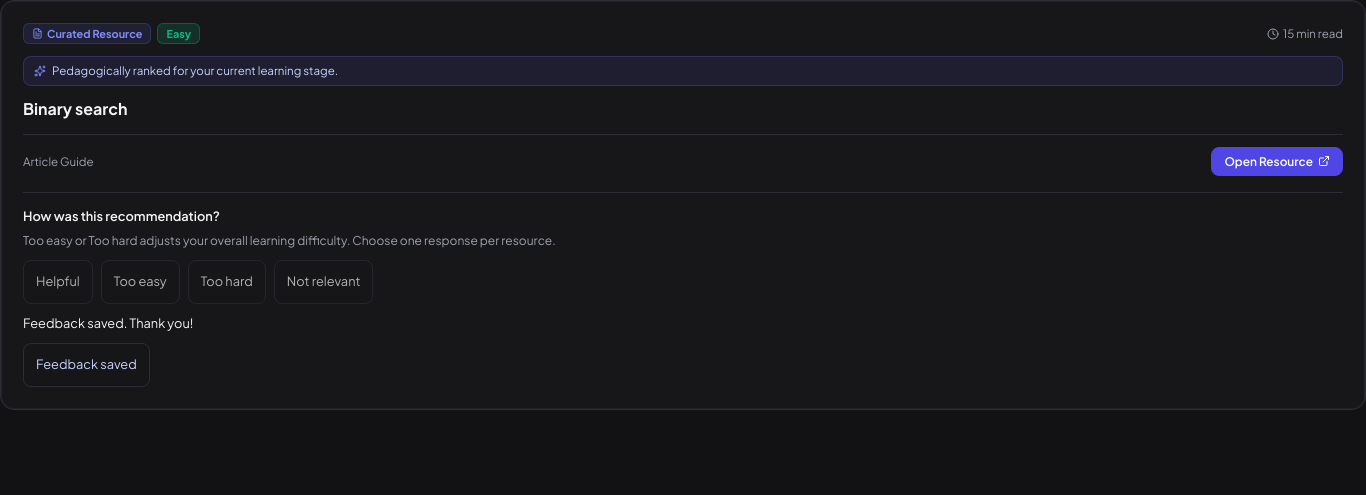
Thanks tooltip › dismisses a hover-only tooltip with Escape while keyboard focus stays elsewhere
Hover over the element showing "Feedback saved": [86, 365] box [23, 343, 150, 387]
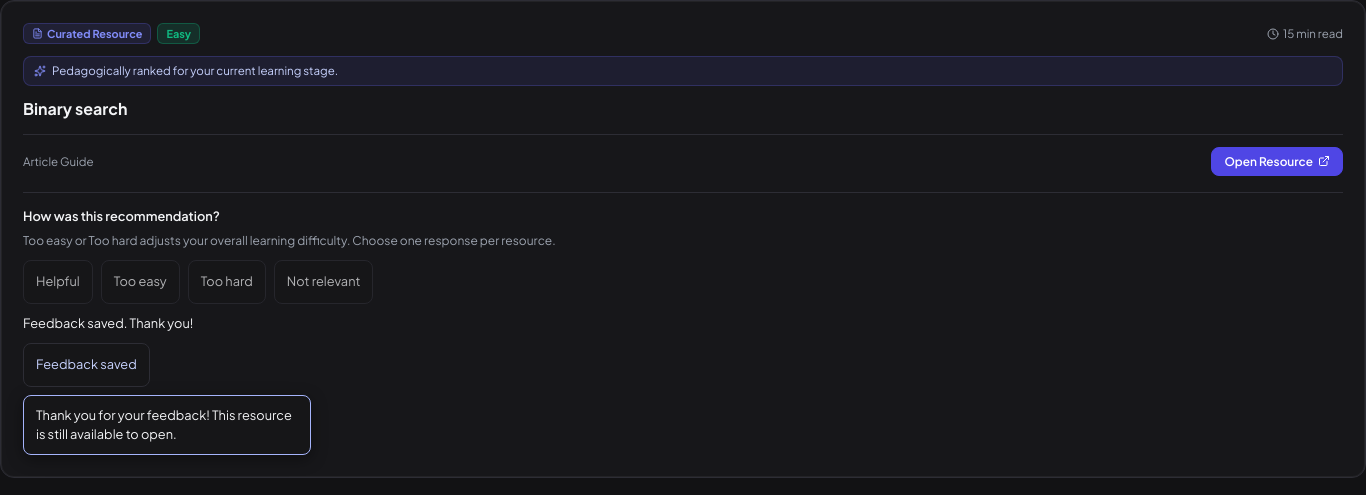
Check: the tooltip is shown, box [23, 395, 311, 456]
Press Escape
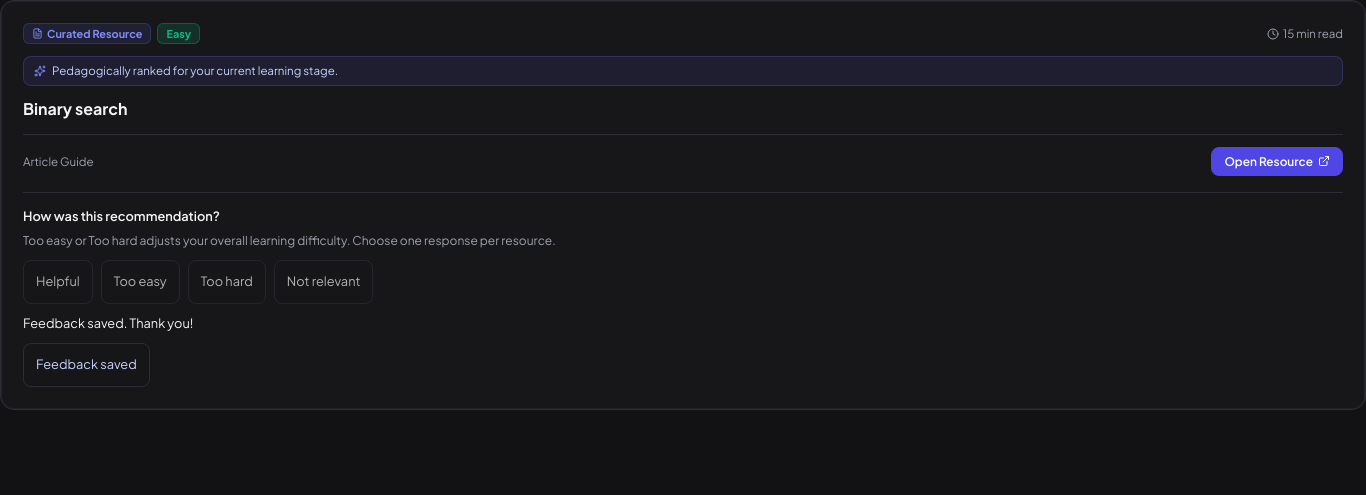
Check: the tooltip "Thank you for your feedback! This resource is still available to open." is gone
